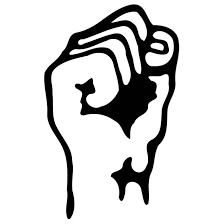fist: (48, 12, 191, 162)
